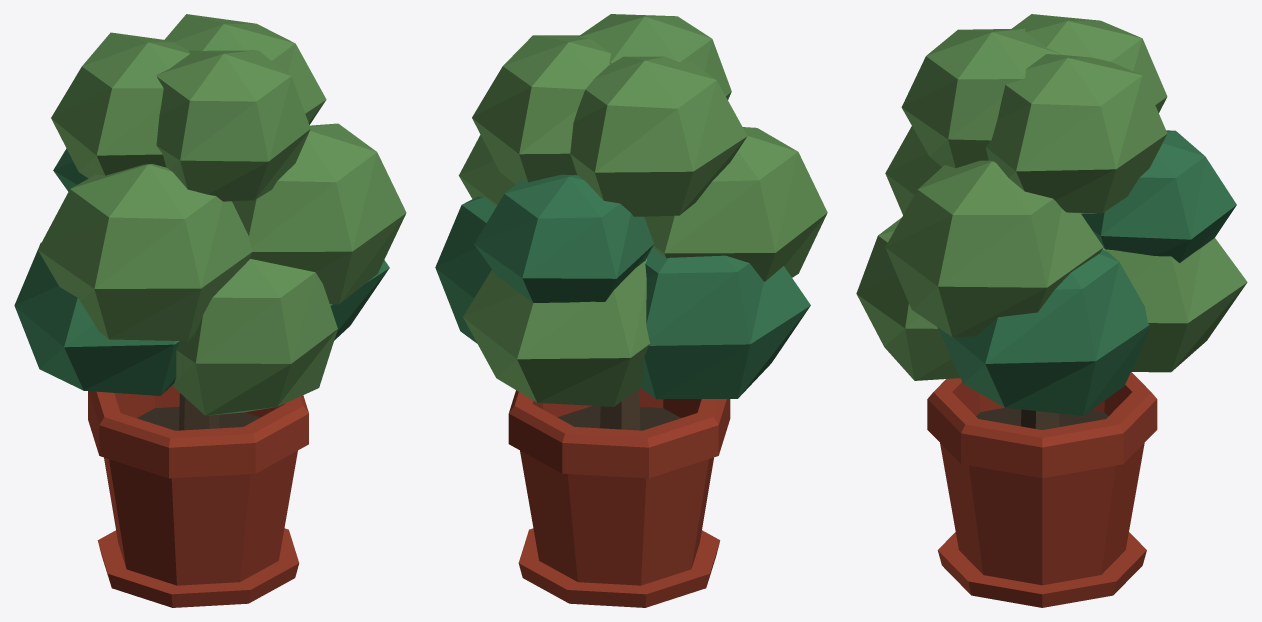
The model's file is potted-shrub-43bd21.glb.
The picture shows the model from 3 angles, left to right: view 1: azimuth 30°, elevation 25°; view 2: azimuth 150°, elevation 25°; view 3: azimuth 270°, elevation 25°; orthographic projection.
Visible parts, largest first — view 1: foliage, pot; view 2: foliage, pot; view 3: foliage, pot.
Part boxes in pixels (x1,y1,x2,y2): foliage: (14,14,406,430); pot: (88,386,308,607); foliage: (435,14,827,430); pot: (508,387,730,607); foliage: (856,14,1247,429); pot: (927,372,1157,607).
Size of the model in its own units: 0.8867 by 1.38 by 0.9197.
